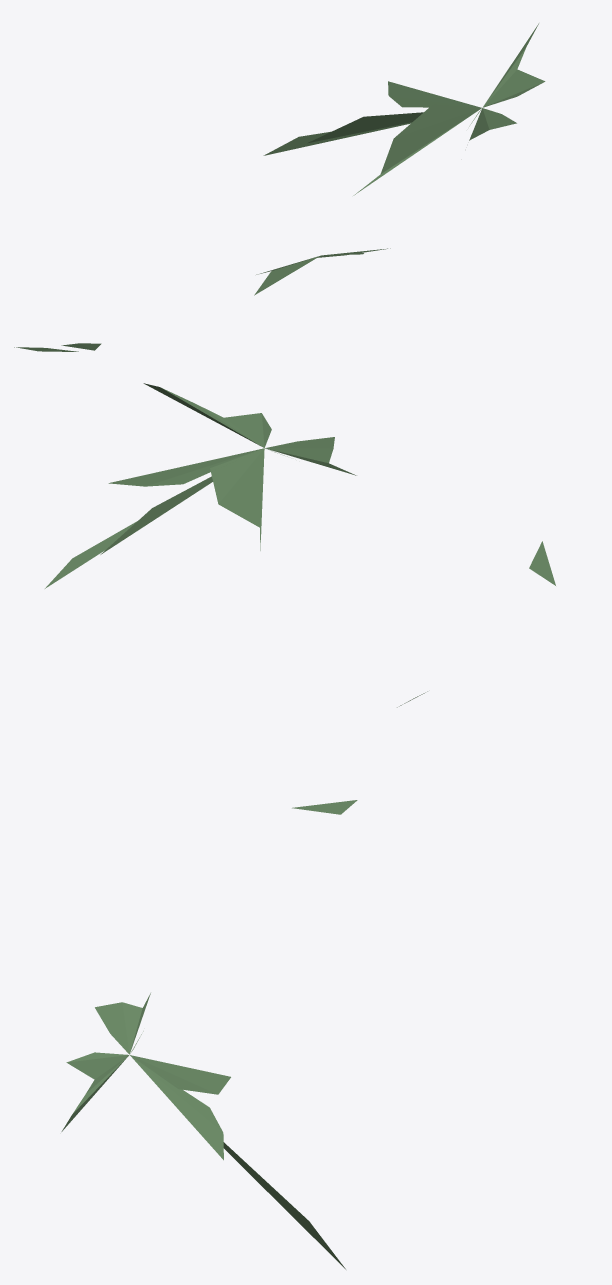
The model's file is c_1665_17819_forest.glb.
The picture shows the model from 3 angles, top to bottom: view 1: azimuth 90°, elevation 25°; view 2: azimuth 150°, elevation 25°; view 3: azimuth 270°, elevation 25°; orthographic projection. The views are drawn at different scales.
Parts seen in each view (by area): view 1: geometry_0; view 2: geometry_0; view 3: geometry_0.
Boxes of the visible parts, x1,y1,x2,y2 form: geometry_0: (14,23,545,351); geometry_0: (45,383,555,707); geometry_0: (61,800,357,1269).
Bounding box in the file's own units: 315 × 83.57 × 225.
